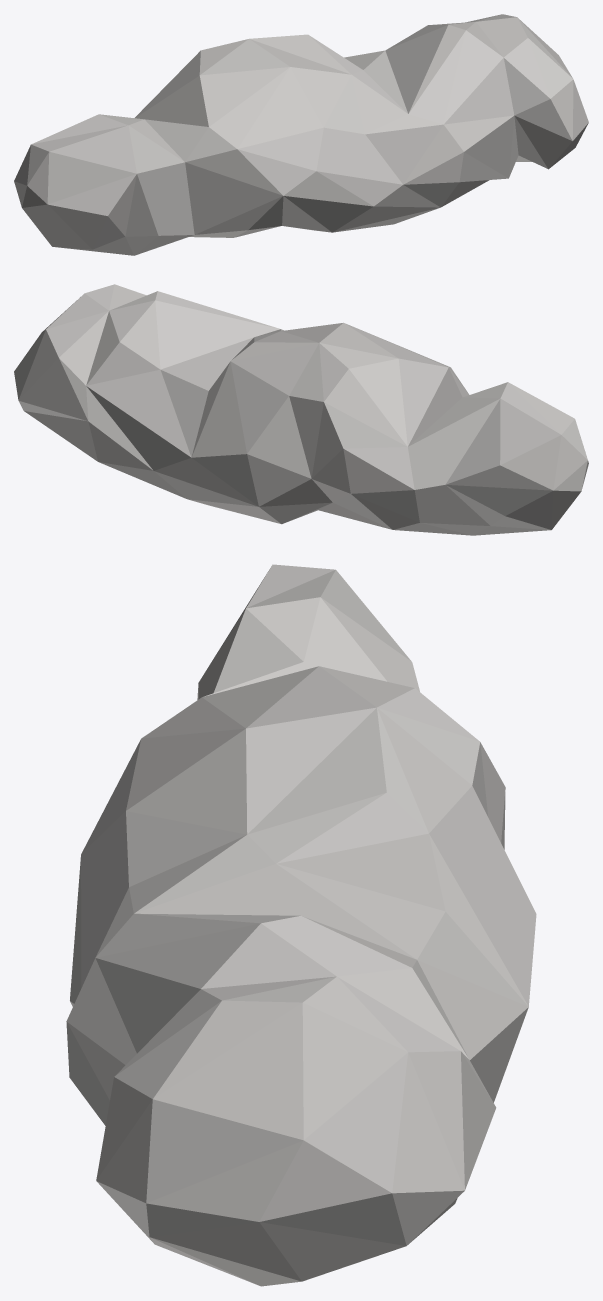
The model's file is cloud_a.glb.
The picture shows the model from 3 angles, top to bottom: view 1: azimuth 30°, elevation 25°; view 2: azimuth 150°, elevation 25°; view 3: azimuth 270°, elevation 25°; orthographic projection. The views are drawn at different scales.
Parts seen in each view (by area): view 1: SM_Env_Cloud_01; view 2: SM_Env_Cloud_01; view 3: SM_Env_Cloud_01.
Part boxes in pixels (bbox=[...]): SM_Env_Cloud_01: bbox=[14, 14, 588, 255]; SM_Env_Cloud_01: bbox=[14, 284, 588, 535]; SM_Env_Cloud_01: bbox=[66, 564, 536, 1286].
Bounding box in the file's own units: 857 × 279 × 322.
1 material, 1 textured.
